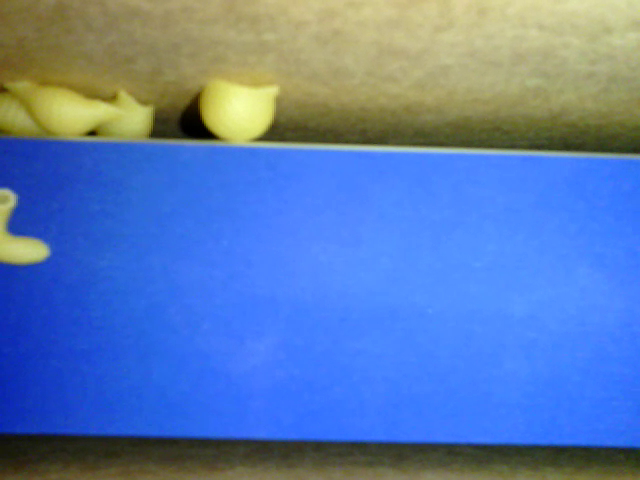elbow: (1, 189, 52, 265)
shell: (3, 79, 129, 137), (197, 78, 282, 143), (93, 91, 157, 144), (1, 90, 59, 140)
